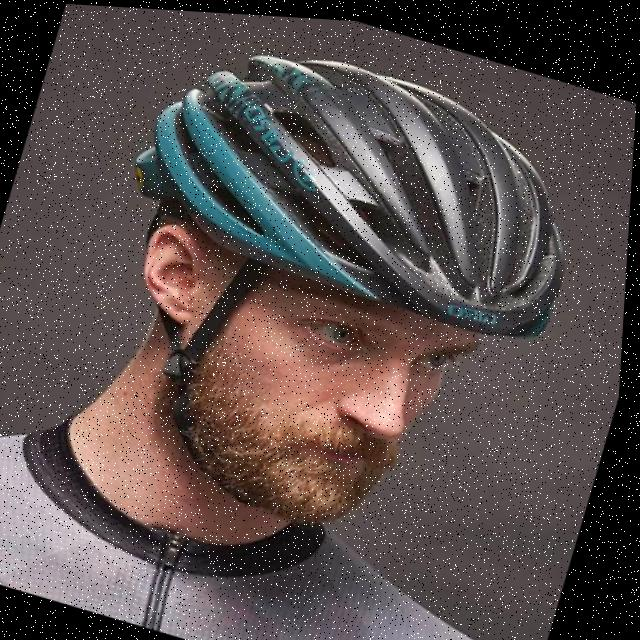illegal_helmet: (30, 3, 628, 590)
